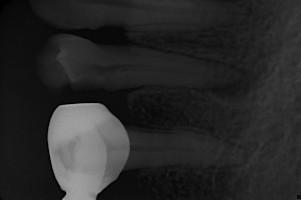Furcation Involvement: (212, 64, 256, 98)
